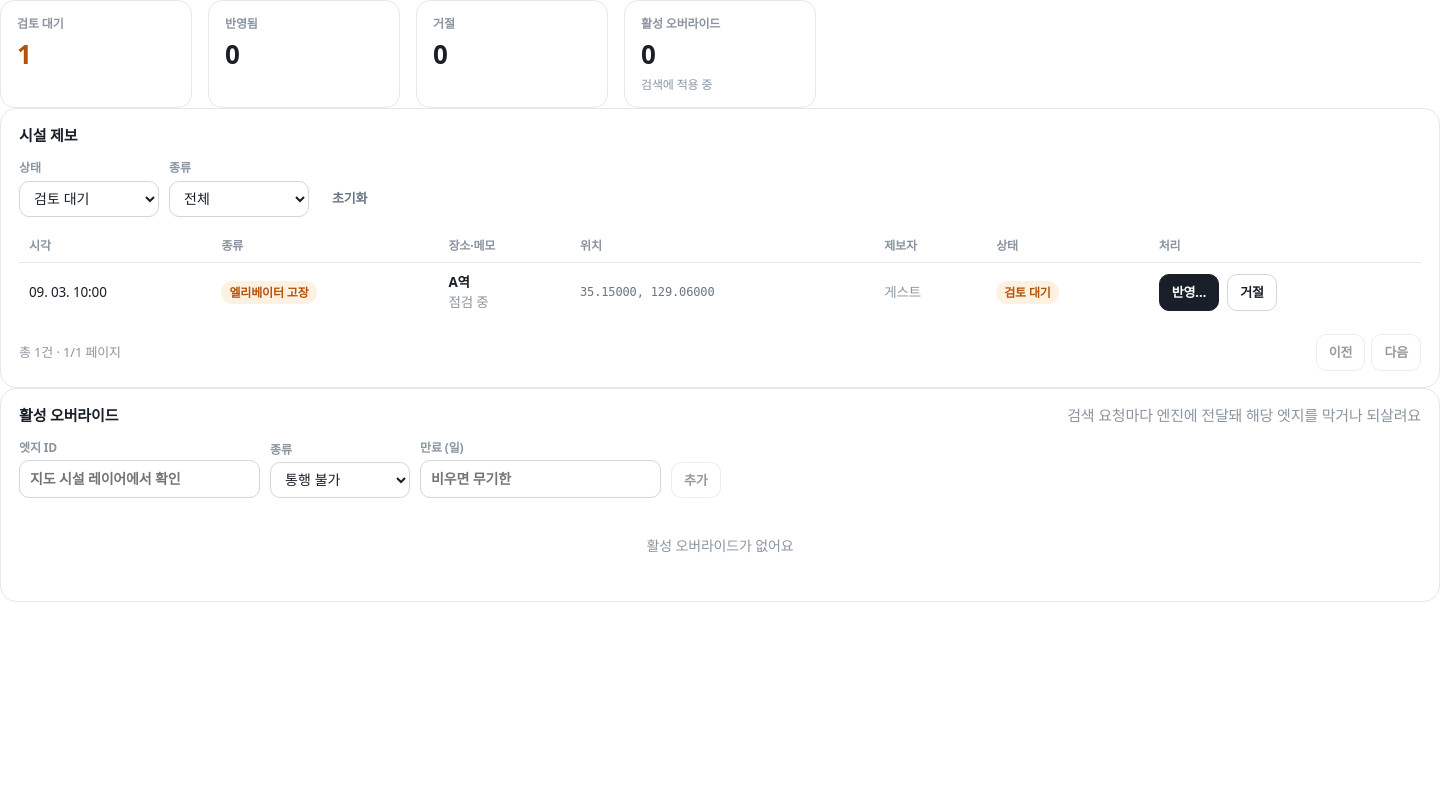
ops pages › accepts a report through the inline form
Expected: the text "A역" is shown, x1=448 y1=273 x2=470 y2=291
Click the button "반영…": x=1189, y=292 x1=1159 y1=274 x2=1219 y2=311
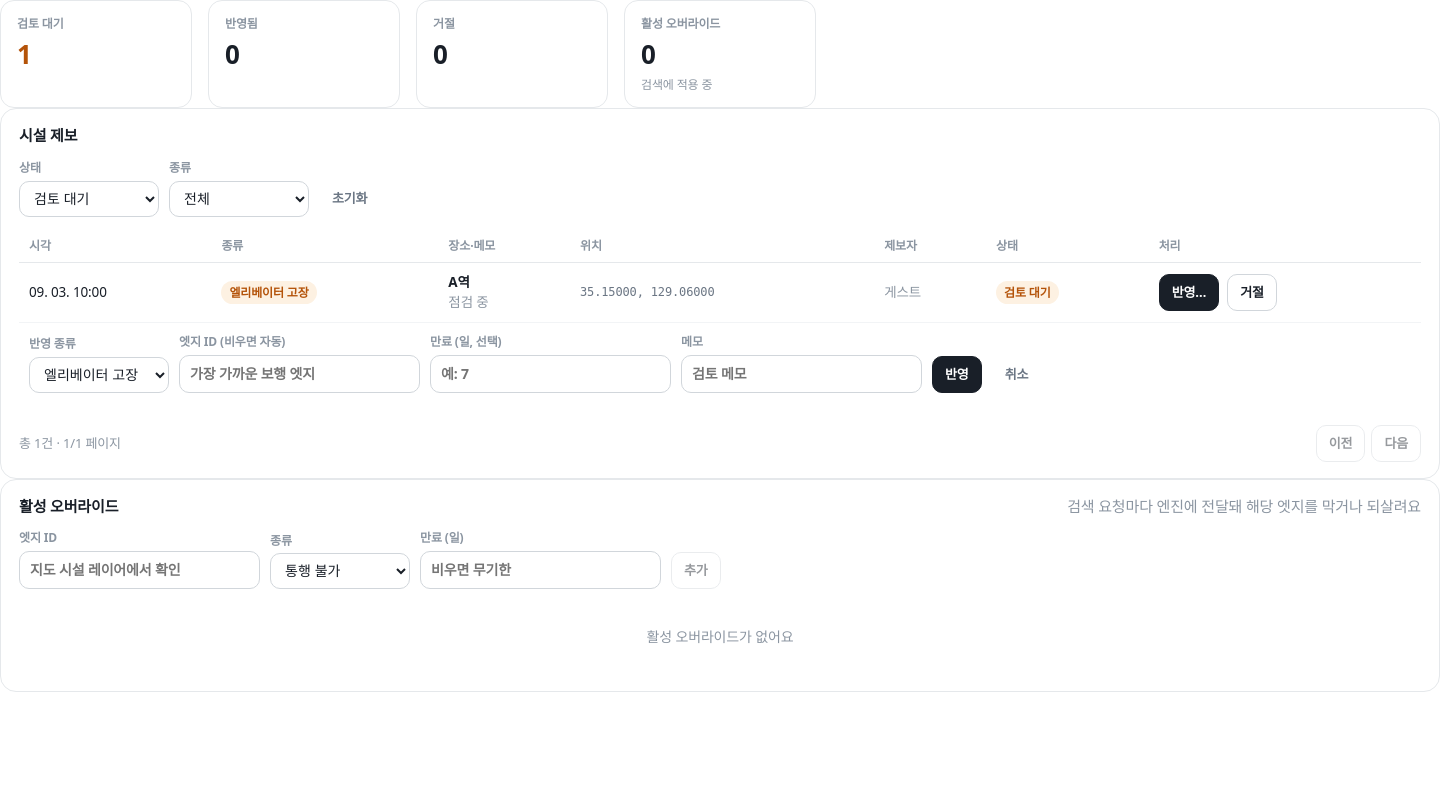
Click the button "반영": x=957, y=374 x1=932 y1=356 x2=982 y2=393
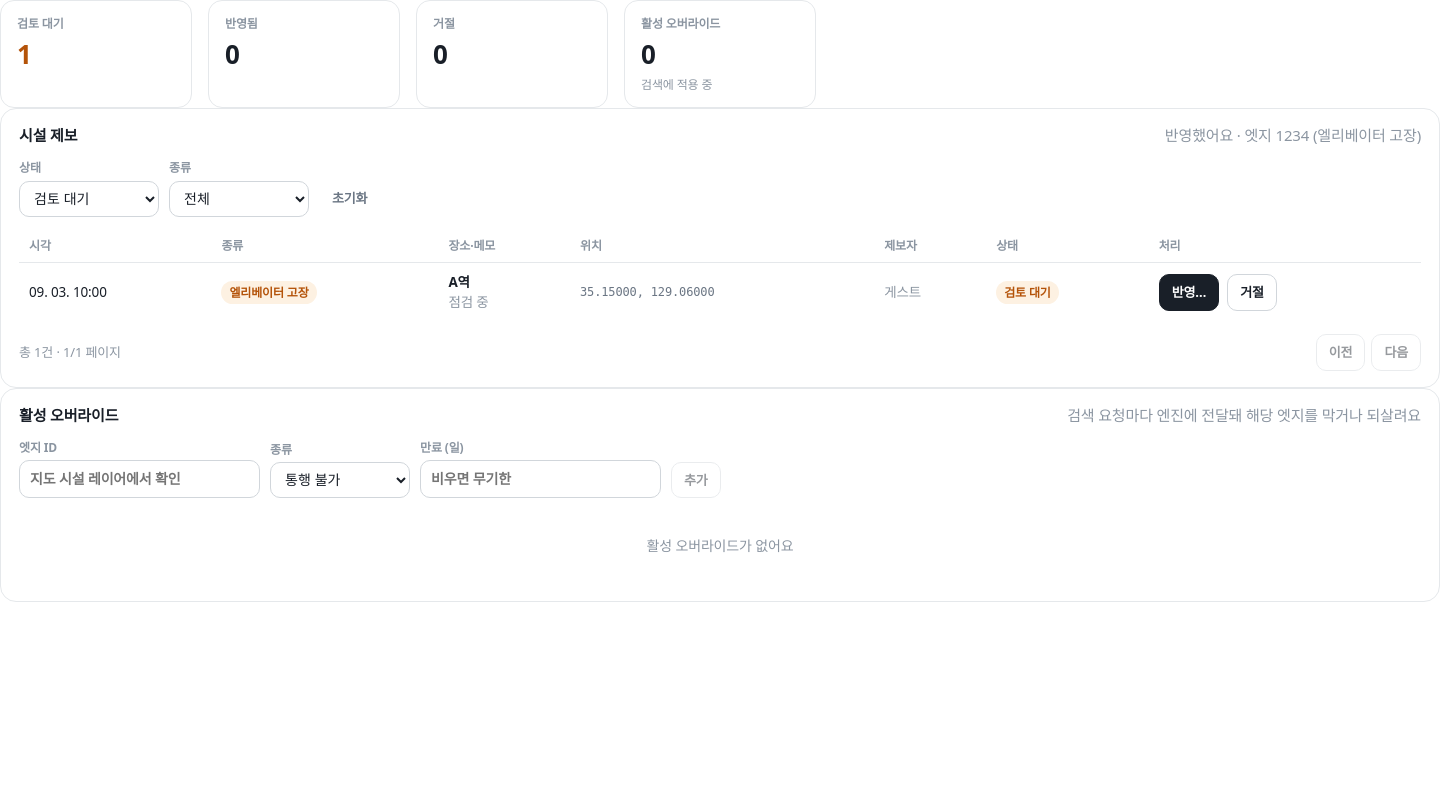
Now the message shows "엣지 1234", box x1=1165 y1=126 x2=1421 y2=146
